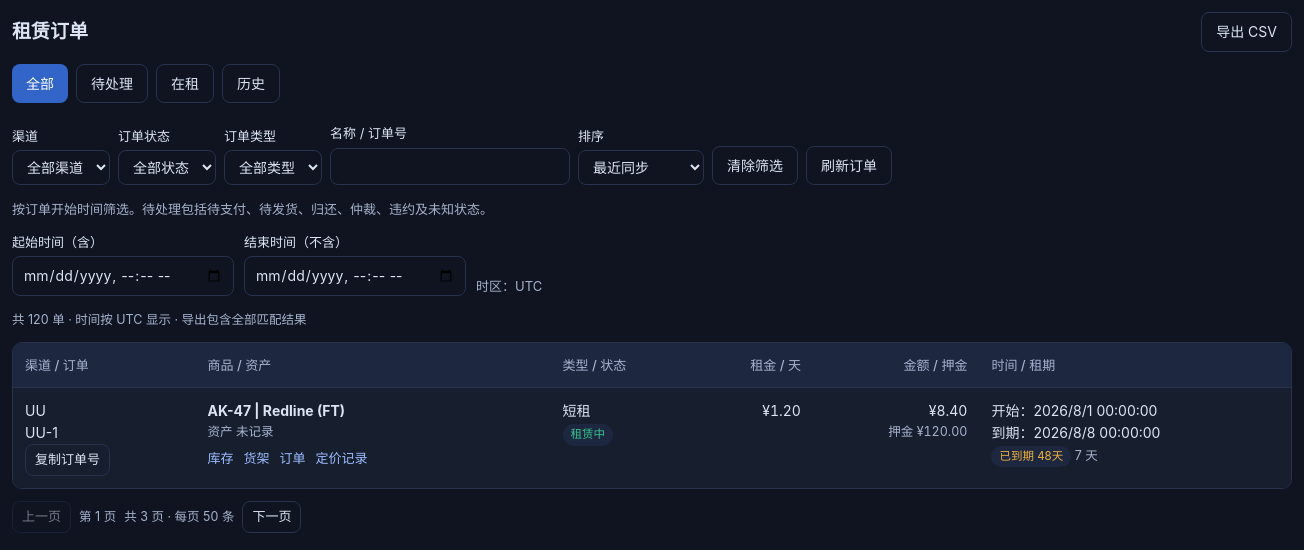
Test: Orders page › disables paging on a single page and advances on multi-page results
Expected: the text "UU-1" is shown, [25,424,58,441]
Expected: the button "上一页" is disabled, [12,501,71,533]
Click the button "下一页" at (272, 517), box [242,501,301,533]
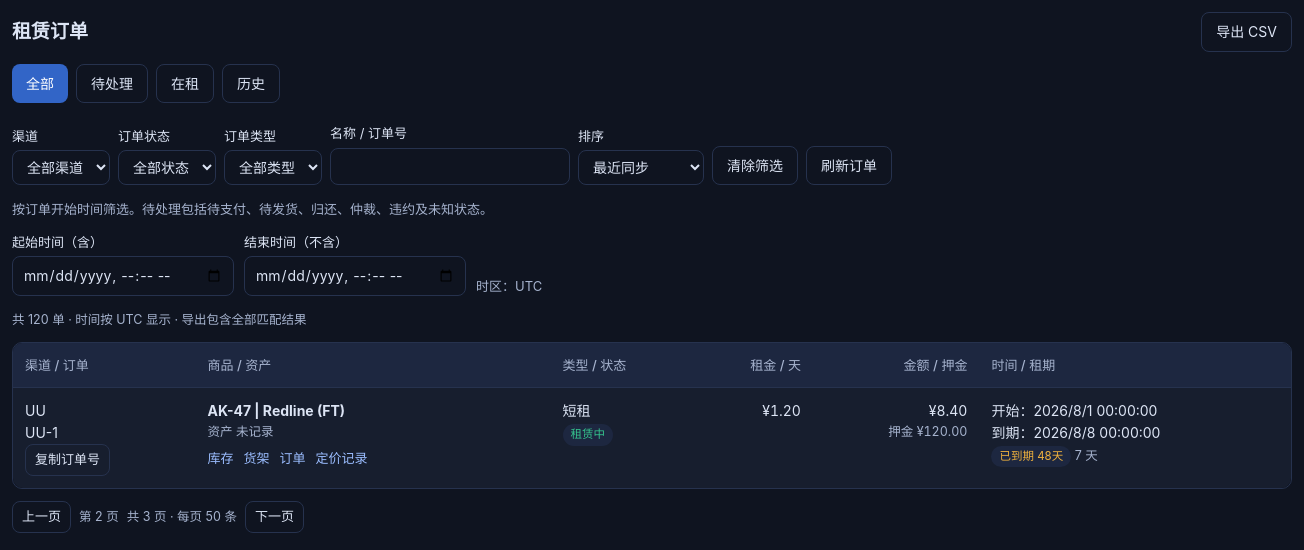
Expected: the text "第 2 页" is shown, [79,507,119,526]
Expected: the button "上一页" is enabled, [12,501,71,533]
